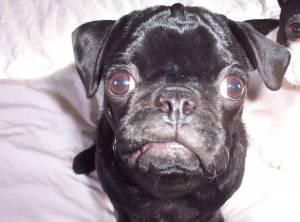dog-pug: (71, 3, 289, 193)
